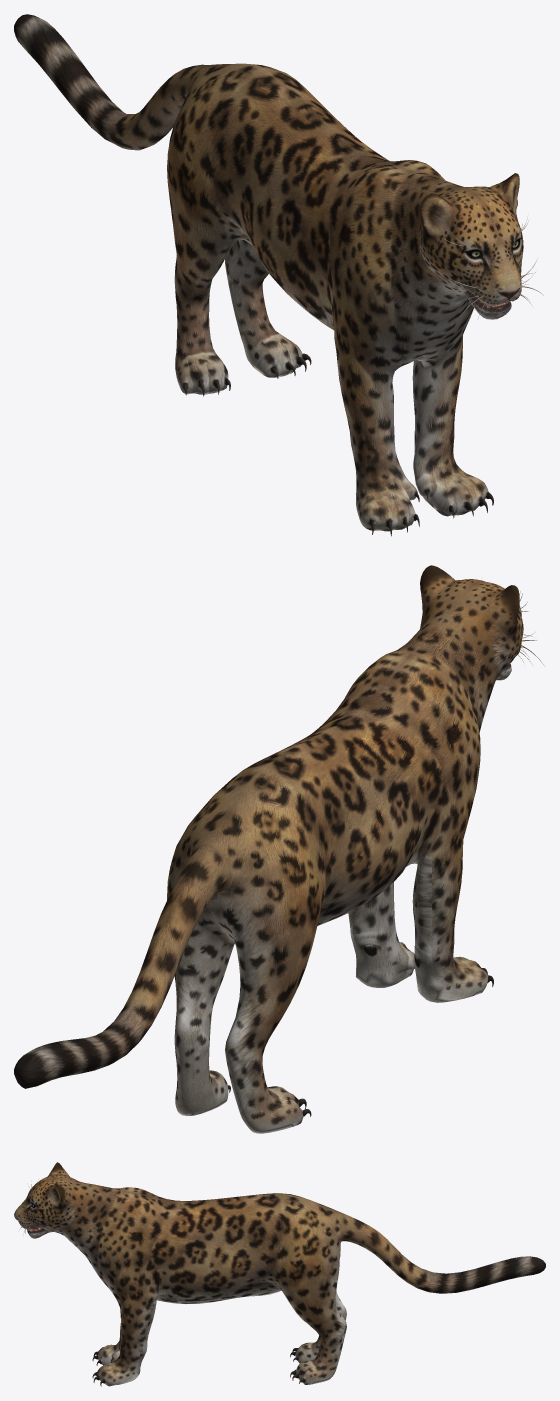
Rendered from Jaguar.glb.
The picture shows the model from 3 angles, top to bottom: view 1: azimuth 30°, elevation 25°; view 2: azimuth 150°, elevation 25°; view 3: azimuth 270°, elevation 25°; orthographic projection. The views are drawn at different scales.
Visible parts, largest first — view 1: Jaguar; view 2: Jaguar; view 3: Jaguar.
Boxes of the visible parts, x1,y1,x2,y2 form: Jaguar: (14, 14, 543, 536); Jaguar: (14, 565, 544, 1133); Jaguar: (14, 1162, 545, 1386).
Bounding box in the file's own units: 1.82 × 4.95 × 11.99.
Materials: 1 (1 with a texture image).
